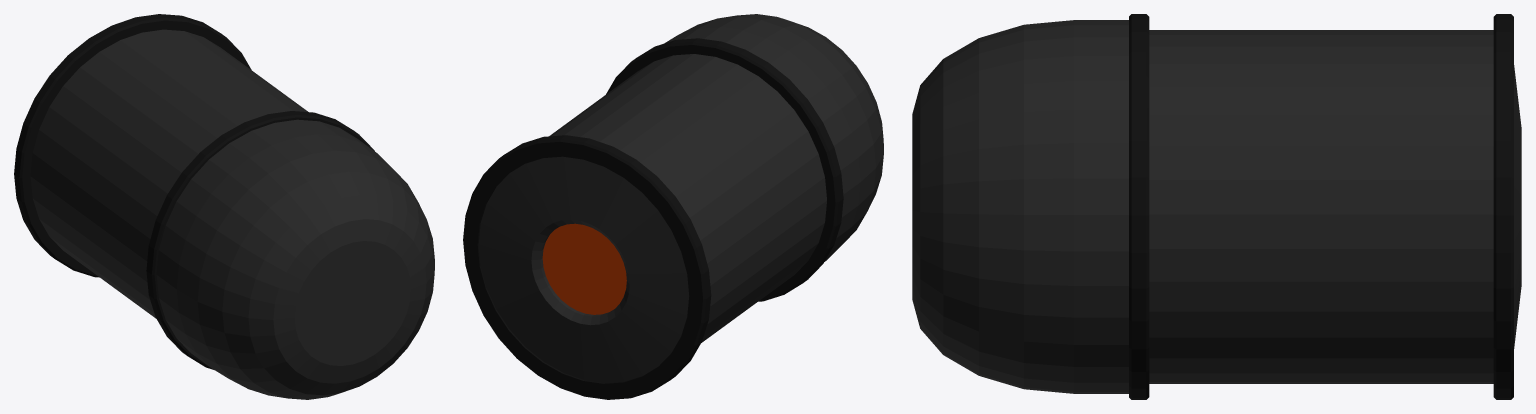
Rendered from Bullet_GrenadeLauncher.fbx.
The picture shows the model from 3 angles, left to right: view 1: azimuth 30°, elevation 25°; view 2: azimuth 150°, elevation 25°; view 3: azimuth 270°, elevation 25°; orthographic projection. The views are drawn at different scales.
Parts seen in each view (by area): view 1: Bullet_GrenadeLauncher; view 2: Bullet_GrenadeLauncher; view 3: Bullet_GrenadeLauncher.
Part boxes in pixels (x1,y1,x2,y2): Bullet_GrenadeLauncher: [14, 14, 434, 399]; Bullet_GrenadeLauncher: [463, 14, 883, 399]; Bullet_GrenadeLauncher: [912, 14, 1521, 399].
Bounding box in the file's own units: 4.24 × 4.24 × 6.69.
